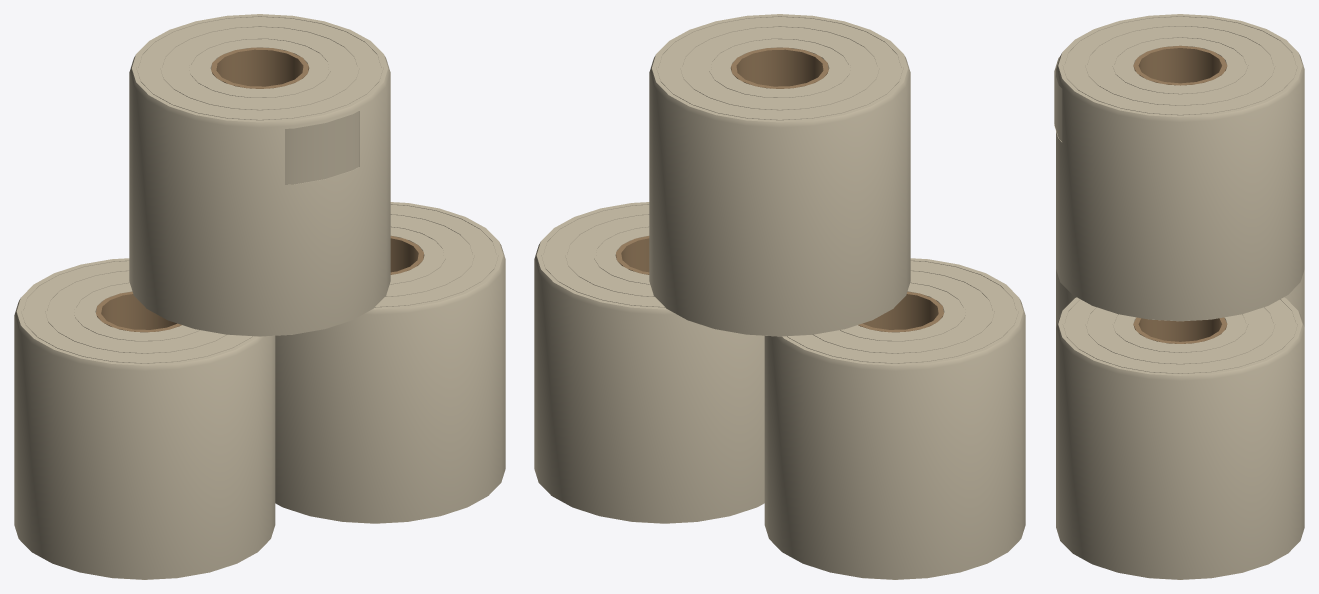
File: toilet-rolls-0bd296a6373b.glb
The picture shows the model from 3 angles, left to right: view 1: azimuth 30°, elevation 25°; view 2: azimuth 150°, elevation 25°; view 3: azimuth 270°, elevation 25°; orthographic projection. The views are drawn at different scales.
Parts seen in each view (by area): view 1: paper, paper-kraft; view 2: paper, paper-kraft; view 3: paper, paper-kraft.
Boxes of the visible parts, box(x1,y1,x2,y2) form: paper: box(14, 14, 505, 579); paper-kraft: box(96, 47, 423, 332); paper: box(534, 14, 1025, 579); paper-kraft: box(616, 47, 943, 332); paper: box(1054, 14, 1304, 579); paper-kraft: box(1133, 45, 1227, 343).
Bounding box in the file's own units: 0.222 × 0.2002 × 0.1108.
